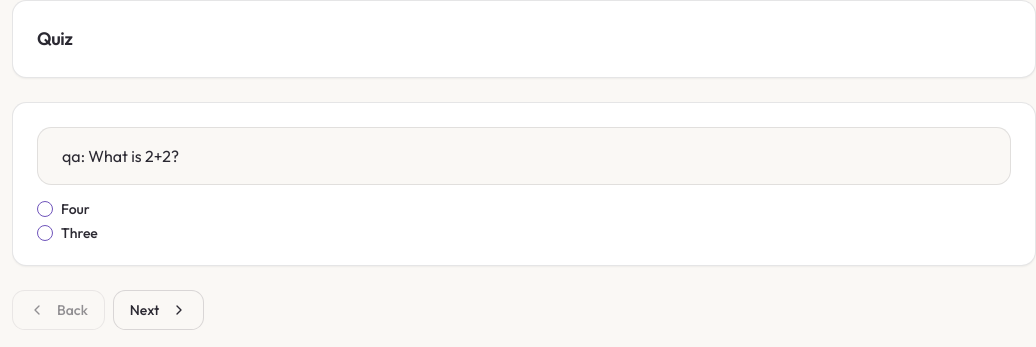
Test: InlineQuizPlayer definite start refusal › a refused first start blocks the questions: no radios, no Submit, honest unsaved message, nothing stored
Click the radio button named "Four" next to "Four". click: (45, 209)
box: left=37, top=201, right=53, bottom=217
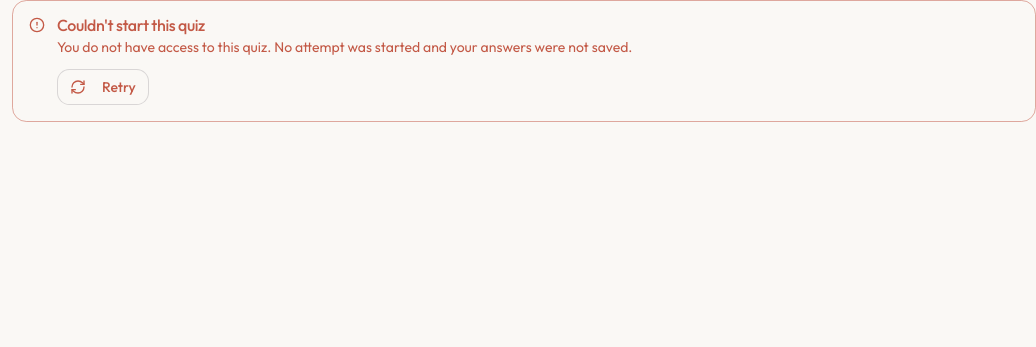
expect the heading "Couldn't start this quiz" is shown: met, box left=57, top=15, right=205, bottom=35
expect the text "You do not have access to this quiz. No attempt was started and your answers were not saved." is shown: met, box left=57, top=38, right=632, bottom=56
expect the radio button is gone: met
